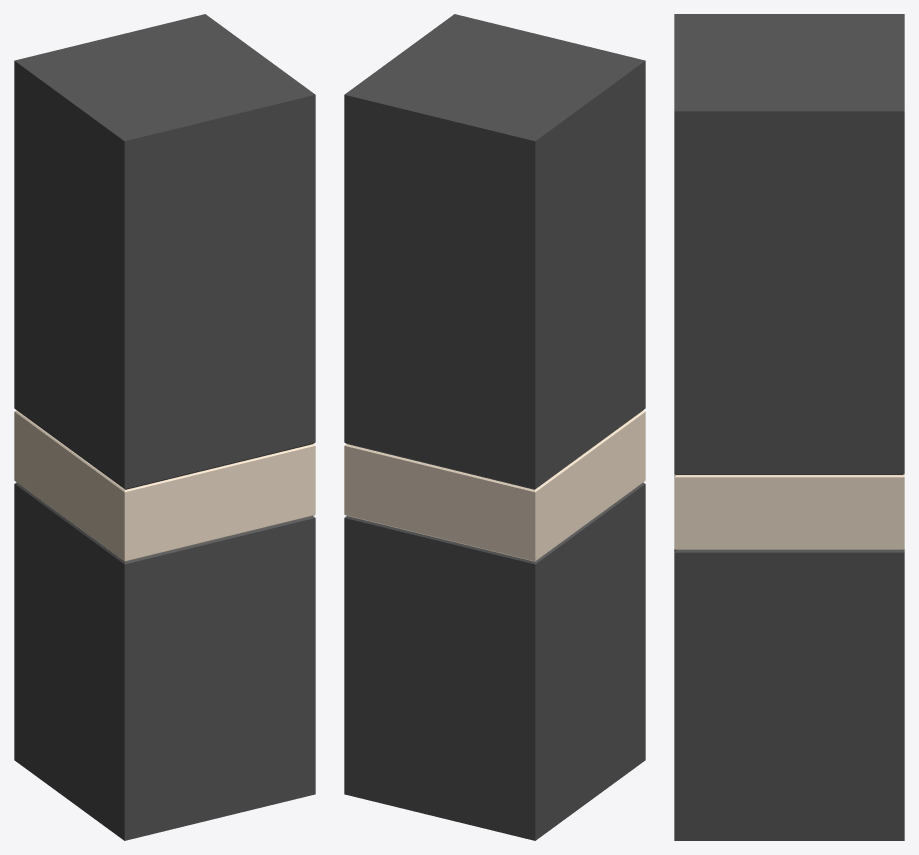
File: 953_lipstick_close.glb
3 renders of one model, left to right at view 1: azimuth 30°, elevation 25°; view 2: azimuth 150°, elevation 25°; view 3: azimuth 270°, elevation 25°, orthographic. The views are drawn at different scales.
Parts seen in each view (by area): view 1: huta, Body; view 2: huta, Body; view 3: huta, Body.
Boxes of the visible parts, box(x1,y1,x2,y2) form: huta: box(14, 14, 315, 489); Body: box(14, 410, 315, 840); huta: box(344, 14, 645, 489); Body: box(344, 410, 645, 840); huta: box(674, 14, 904, 474); Body: box(674, 474, 904, 840).
Size of the model in its own units: 0.02 by 0.07 by 0.02.
